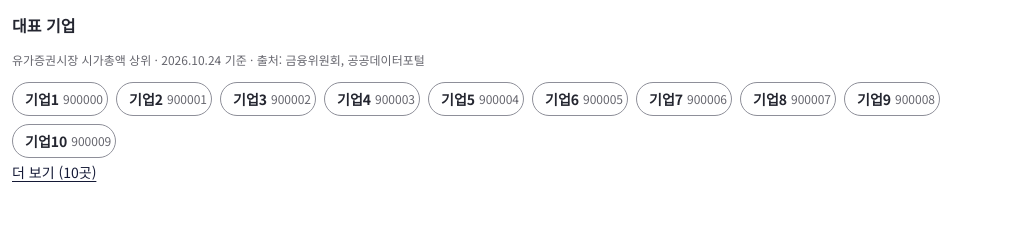
FeaturedCompanies(#399) › 더 보기를 누르면 나머지를 펼친다
This screenshot has width=1031, height=241.
Click the button "더 보기 (10곳)".
click(54, 173)  # box [12,161,96,184]
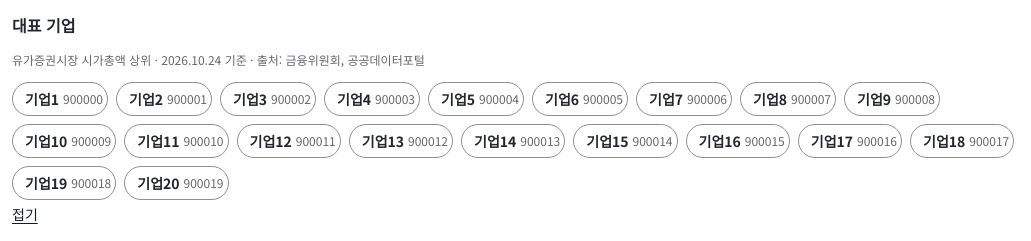
Now the number of links is 20
